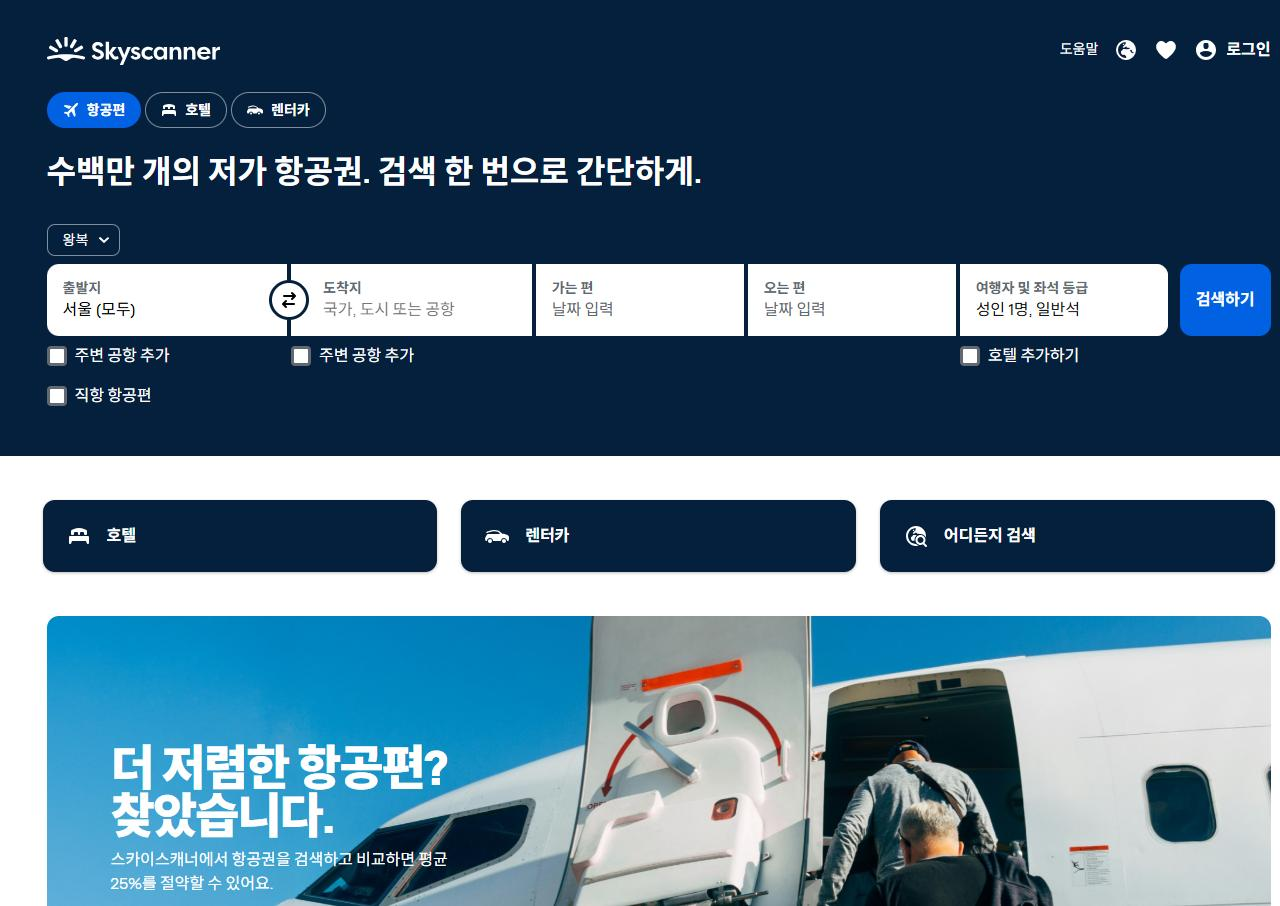button: (881, 499, 1276, 574), (45, 499, 440, 573), (461, 500, 856, 573), (1181, 264, 1271, 333), (51, 88, 139, 131), (236, 91, 330, 130), (149, 92, 228, 132), (1196, 38, 1276, 62), (1058, 39, 1138, 61), (271, 279, 311, 319), (1153, 34, 1179, 64)
checkbox: (45, 266, 270, 336), (962, 264, 1162, 333), (956, 343, 1091, 374), (44, 344, 179, 373), (285, 345, 428, 370), (45, 385, 160, 411), (46, 223, 121, 256)
input_field: (320, 270, 529, 332), (758, 269, 950, 329), (549, 270, 739, 329)
popup: (46, 612, 1273, 906)
